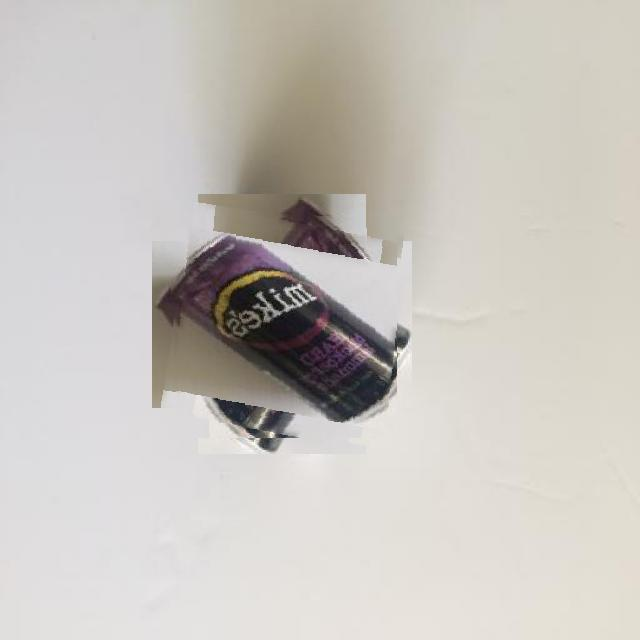recyclable: (167, 210, 397, 438)
